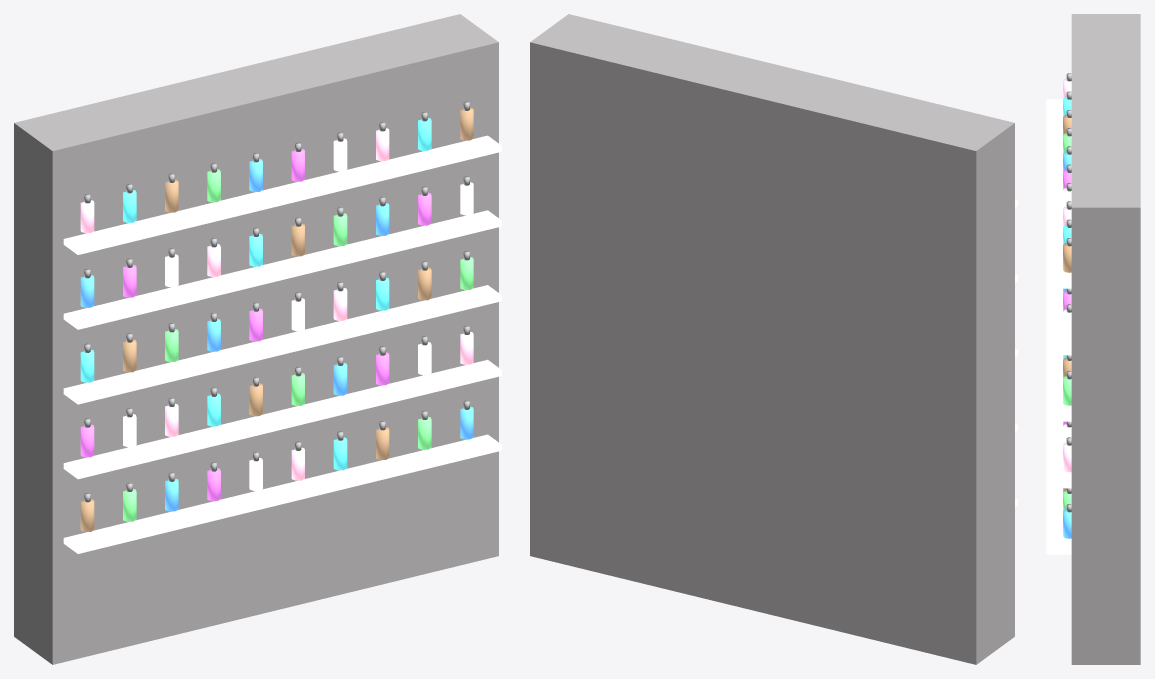
The model's file is perfume_wall.glb.
3 renders of one model, left to right at view 1: azimuth 30°, elevation 25°; view 2: azimuth 150°, elevation 25°; view 3: azimuth 270°, elevation 25°, orthographic. The views are drawn at different scales.
Parts seen in each view (by area): view 1: perfume_wall; view 2: perfume_wall; view 3: perfume_wall.
Part boxes in pixels (x1,y1,x2,y2): perfume_wall: (14, 14, 501, 664); perfume_wall: (530, 14, 1017, 664); perfume_wall: (1046, 14, 1140, 664).
Size of the model in its own units: 2 by 2.2 by 0.41.
